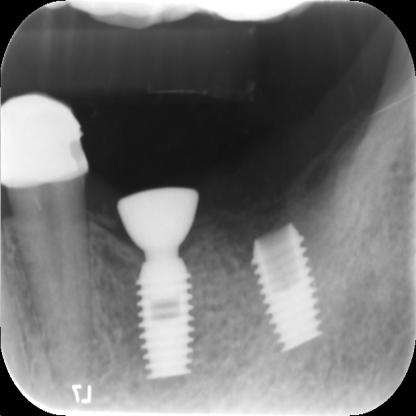Bicon: (247, 224, 321, 354), (134, 243, 192, 381)
